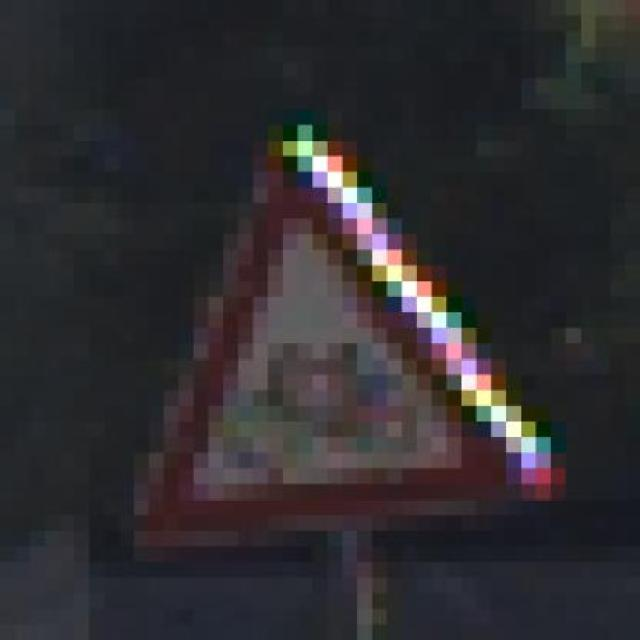CYCLE ROUTE AHEAD WARNING: (120, 109, 566, 546)
